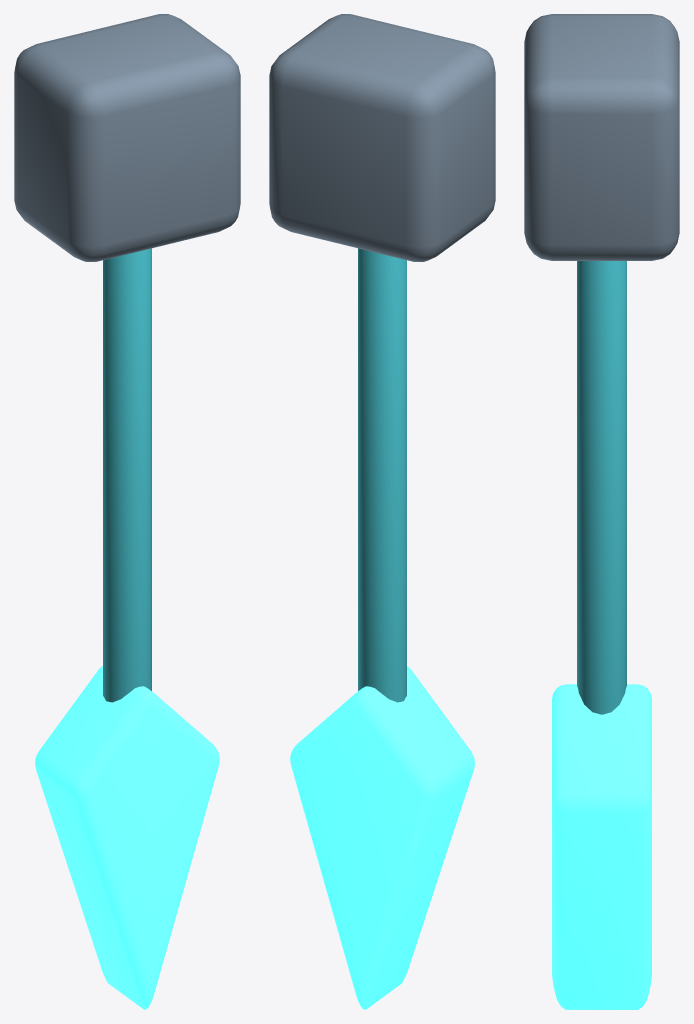
The model's file is earring_v6.glb.
3 renders of one model, left to right at view 1: azimuth 30°, elevation 25°; view 2: azimuth 150°, elevation 25°; view 3: azimuth 270°, elevation 25°, orthographic.
Parts seen in each view (by area): view 1: EAR_STUD_PRIMARY, SPEAR_DROP_EMISSIVE, BAR_DROP_ACCENT; view 2: EAR_STUD_PRIMARY, SPEAR_DROP_EMISSIVE, BAR_DROP_ACCENT; view 3: EAR_STUD_PRIMARY, SPEAR_DROP_EMISSIVE, BAR_DROP_ACCENT.
Part boxes in pixels (x1,y1,x2,y2): EAR_STUD_PRIMARY: [14, 14, 240, 261]; SPEAR_DROP_EMISSIVE: [35, 666, 219, 1009]; BAR_DROP_ACCENT: [103, 248, 151, 702]; EAR_STUD_PRIMARY: [269, 14, 495, 261]; SPEAR_DROP_EMISSIVE: [290, 666, 474, 1009]; BAR_DROP_ACCENT: [358, 248, 406, 702]; EAR_STUD_PRIMARY: [524, 14, 679, 260]; SPEAR_DROP_EMISSIVE: [552, 684, 651, 1009]; BAR_DROP_ACCENT: [577, 261, 626, 714].
Bounding box in the file's own units: 0.36 × 1.92 × 0.28.
